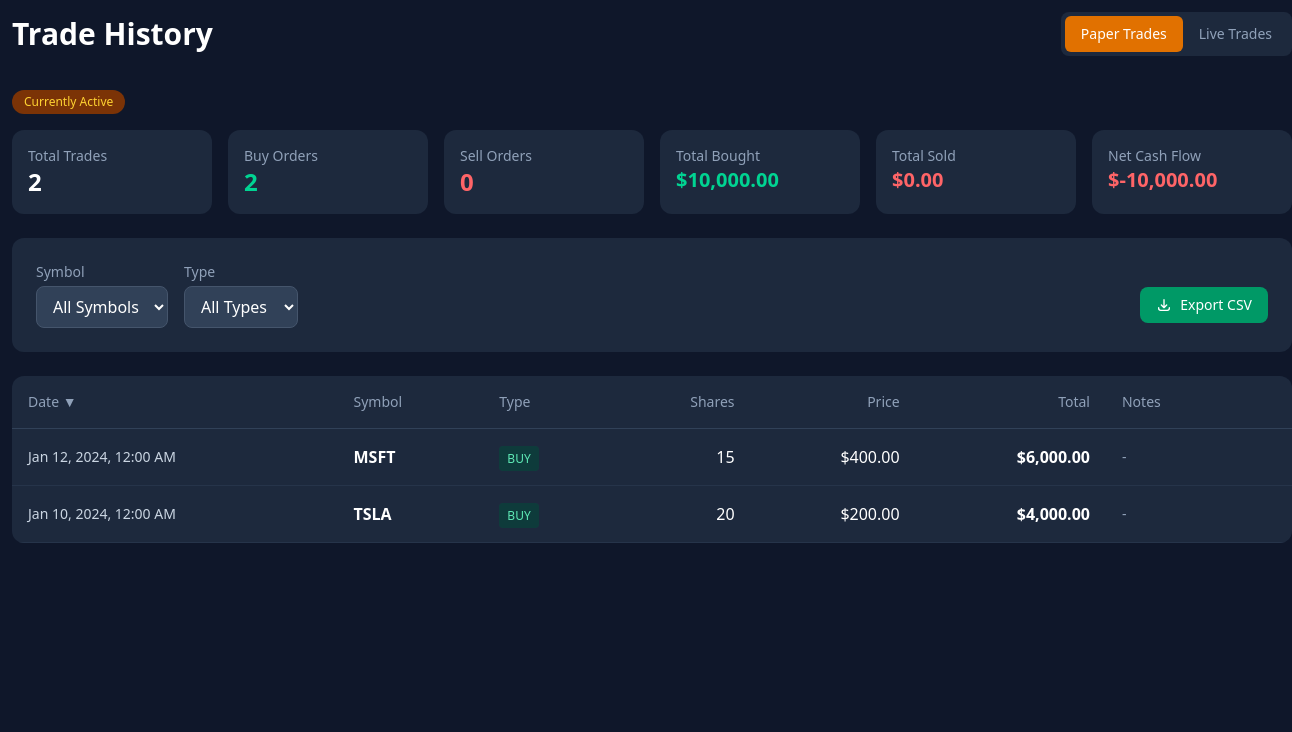
it: TradeHistory › Tab switching › should switch to live trades when clicking Live Trades tab
// Click Live Trades tab
Step 1. Click the button "Live Trades" → (1235, 34), box [1183,16,1288,52]
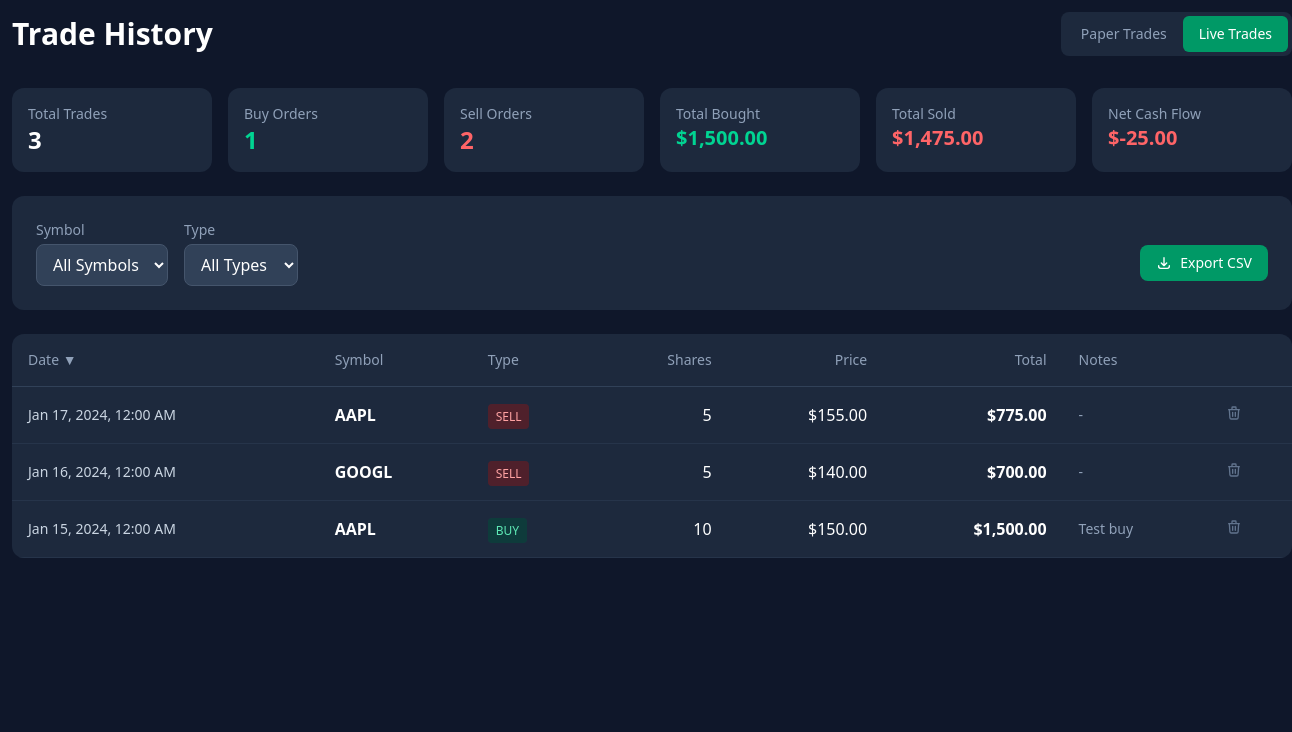
Expected: the text "TSLA" is gone
Expected: the text "MSFT" is gone
